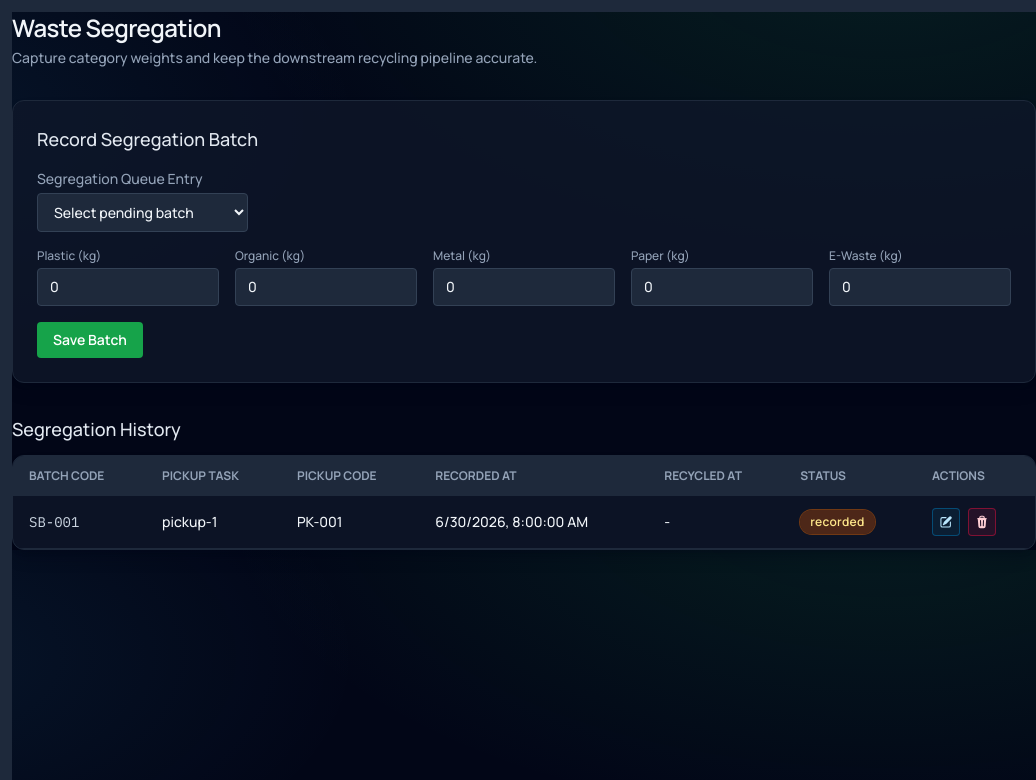
Test: SegregationPage integration › shows created recycling batch count after successful save
Select "SB-001 | PK-001 | pending" in the dropdown labelled "Segregation Queue Entry": (142,212) [37,193,248,232]
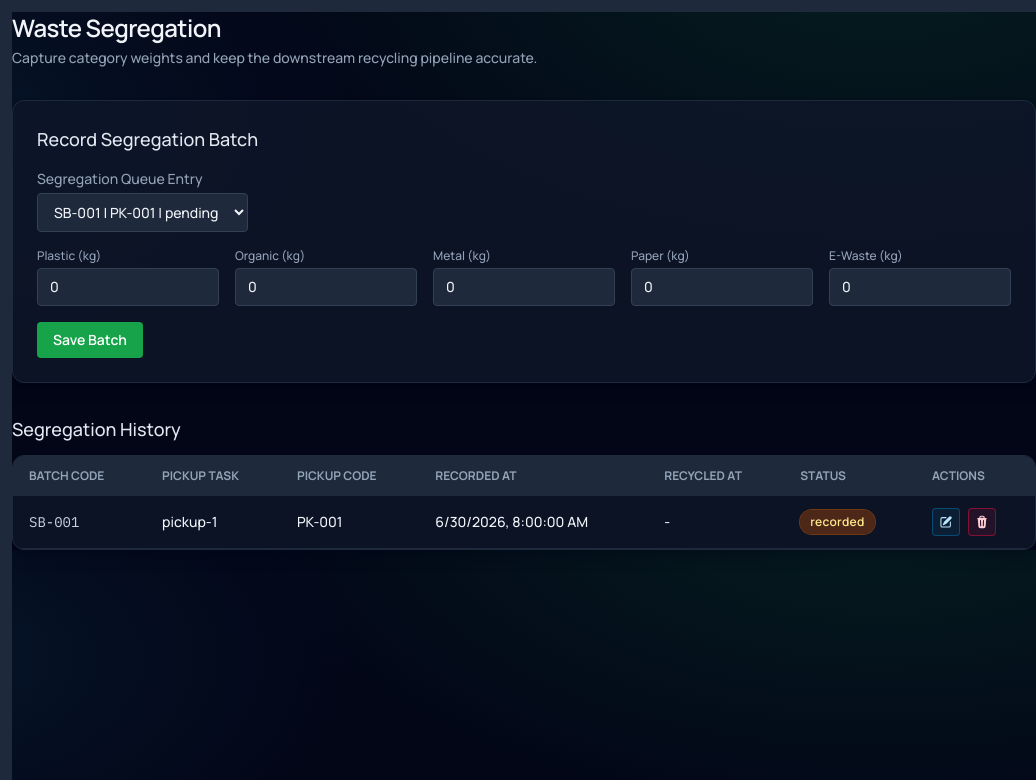
Replace the text in the number field labelled "Plastic (kg)" with "10": (128,287) [37,268,219,306]
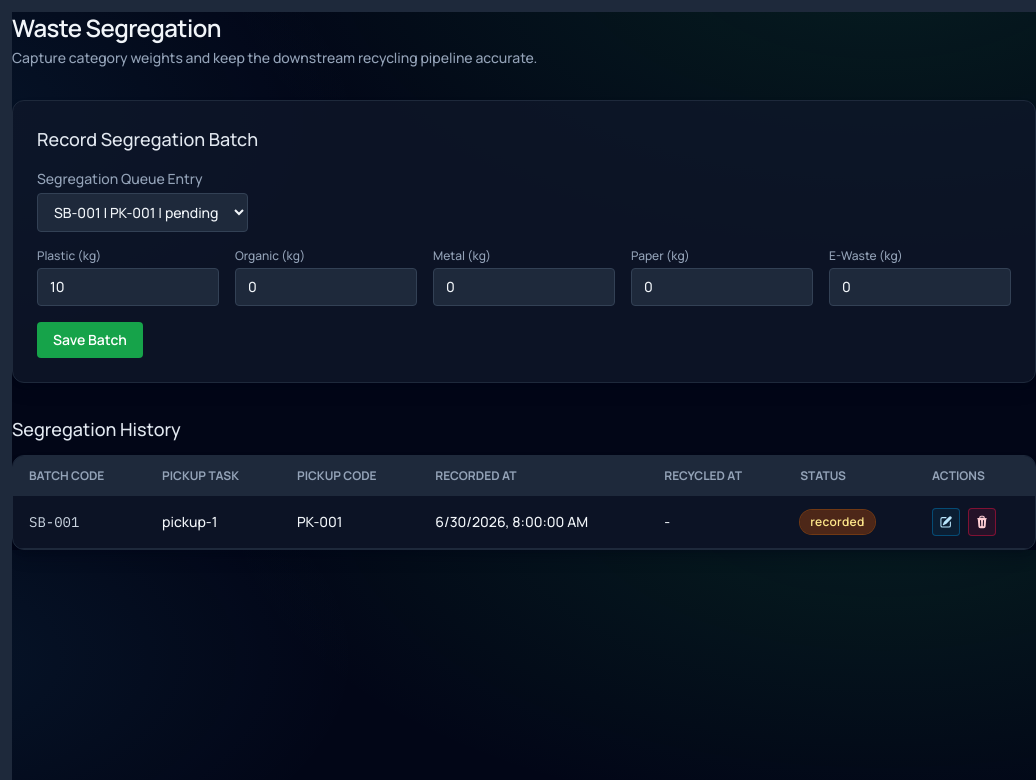
Click the button "Save Batch": (90,340) [37,322,143,358]
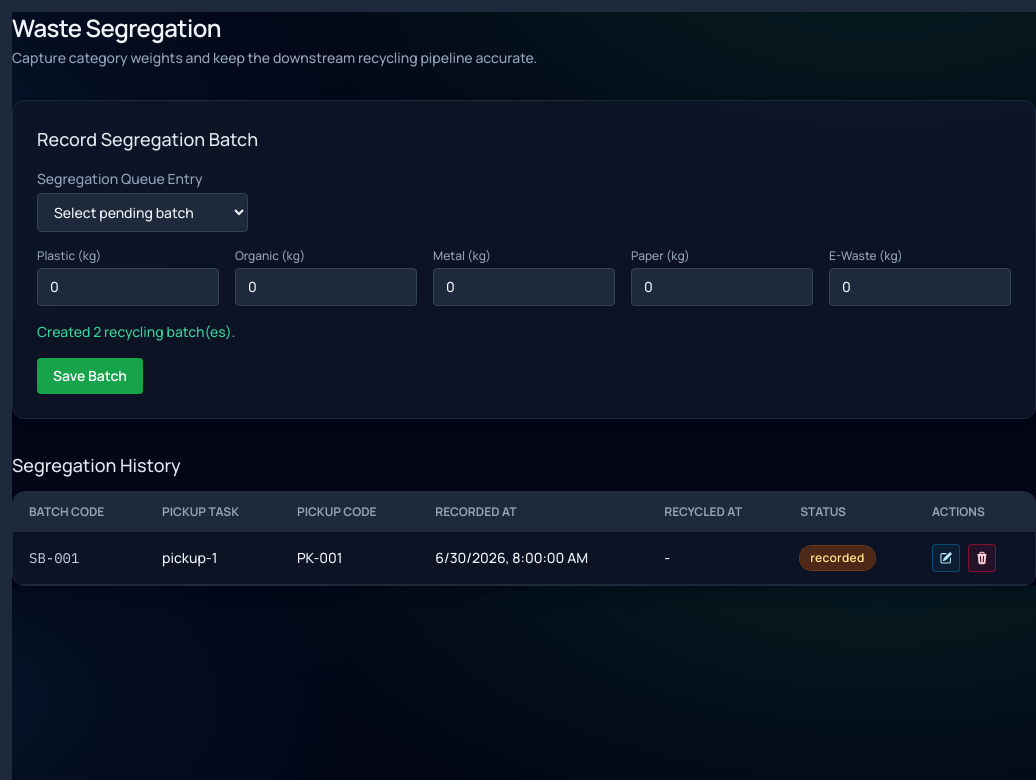
Result: the text "Created 2 recycling batch(es)." is shown at [37,322,235,341]
